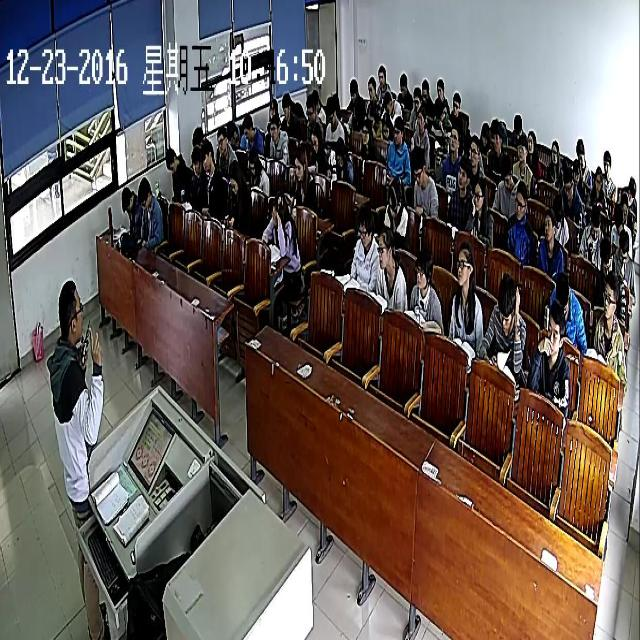person: (57, 275, 87, 349), (495, 274, 520, 342), (541, 304, 566, 364), (455, 244, 476, 291), (552, 271, 571, 320), (377, 224, 395, 273), (413, 246, 432, 292), (358, 202, 374, 252), (601, 272, 617, 321), (387, 176, 404, 220), (411, 150, 427, 190), (229, 159, 244, 198), (331, 134, 347, 170), (513, 180, 528, 218), (466, 137, 481, 174), (138, 175, 152, 214), (272, 190, 286, 229), (559, 162, 574, 198), (292, 144, 306, 182), (501, 152, 514, 192), (600, 237, 613, 276), (359, 116, 373, 151), (456, 155, 470, 190), (472, 177, 485, 214), (550, 195, 563, 232), (163, 143, 177, 176), (202, 138, 214, 176), (247, 145, 260, 180), (309, 119, 322, 154), (588, 204, 601, 239), (323, 92, 337, 124), (542, 206, 554, 243), (121, 183, 134, 216), (192, 128, 205, 158), (574, 136, 587, 166), (242, 110, 254, 142), (216, 124, 227, 158), (618, 230, 629, 264), (190, 146, 202, 177), (366, 98, 378, 129), (510, 110, 522, 140), (624, 172, 636, 202), (380, 108, 391, 140), (304, 92, 316, 121), (490, 122, 502, 151), (348, 74, 359, 105), (516, 134, 528, 162), (611, 202, 622, 232), (392, 115, 403, 144), (448, 124, 459, 153), (226, 118, 237, 146), (416, 108, 427, 136), (280, 88, 290, 118), (376, 60, 386, 90), (412, 82, 422, 112), (420, 74, 430, 104), (478, 118, 488, 148), (266, 96, 278, 120), (365, 74, 376, 100), (434, 101, 445, 127), (269, 116, 279, 144), (452, 86, 462, 114), (527, 128, 537, 156), (399, 69, 409, 96), (594, 165, 604, 192), (354, 97, 364, 123), (571, 158, 581, 183), (382, 91, 392, 114), (550, 137, 558, 165), (620, 191, 628, 219), (436, 75, 444, 100), (602, 151, 610, 176), (311, 88, 320, 110)
